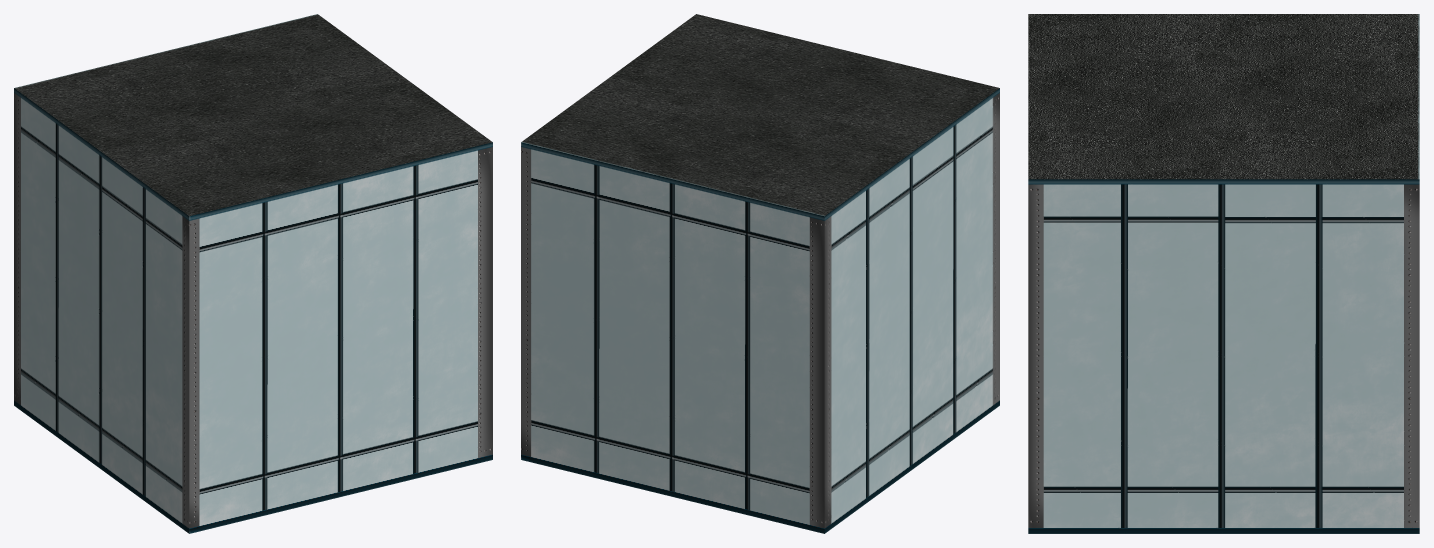
Rendered from Building_Middle_02.dae.
The picture shows the model from 3 angles, left to right: view 1: azimuth 30°, elevation 25°; view 2: azimuth 150°, elevation 25°; view 3: azimuth 270°, elevation 25°; orthographic projection. The views are drawn at different scales.
Visible parts, largest first — view 1: Building_Middle_02; view 2: Building_Middle_02; view 3: Building_Middle_02.
Part boxes in pixels (x1,y1,x2,y2): Building_Middle_02: [14, 14, 492, 533]; Building_Middle_02: [521, 14, 999, 533]; Building_Middle_02: [1028, 14, 1419, 533].
Size of the model in its own units: 45.04 by 45.04 by 45.04.
